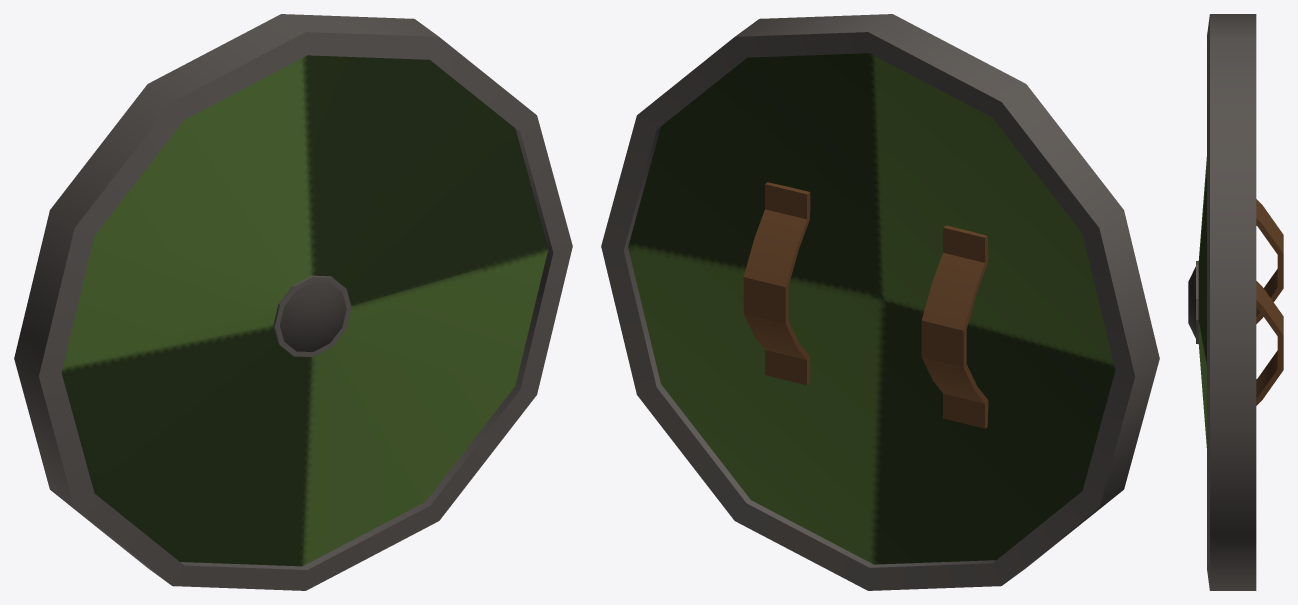
The model's file is Round Shield_Green.fbx.
3 renders of one model, left to right at view 1: azimuth 30°, elevation 25°; view 2: azimuth 150°, elevation 25°; view 3: azimuth 270°, elevation 25°, orthographic. The views are drawn at different scales.
Parts seen in each view (by area): view 1: Round Shield_Green_Baked; view 2: Round Shield_Green_Baked; view 3: Round Shield_Green_Baked.
Boxes of the visible parts, x1,y1,x2,y2 form: Round Shield_Green_Baked: (14,14,572,590); Round Shield_Green_Baked: (601,14,1159,590); Round Shield_Green_Baked: (1188,14,1283,590).
Bounding box in the file's own units: 60 × 60 × 9.87.
1 material, 1 textured.
